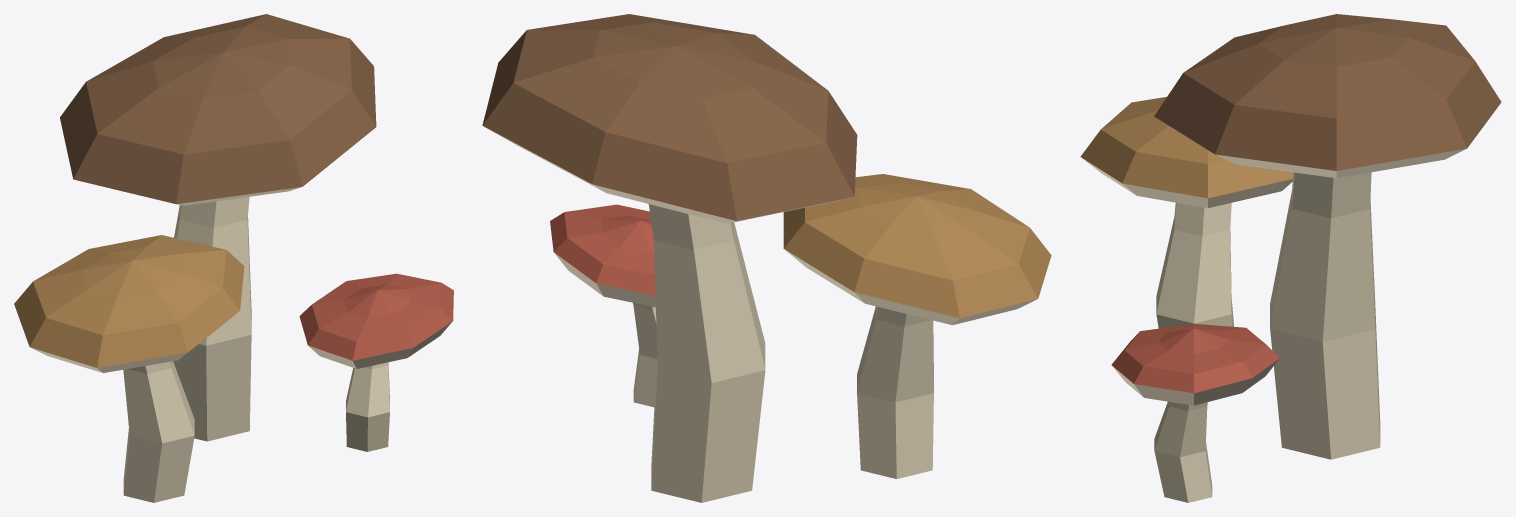
Rendered from magic_mushrooms.glb.
3 views of the same model, side by side, from view 1: azimuth 30°, elevation 25°; view 2: azimuth 150°, elevation 25°; view 3: azimuth 270°, elevation 25° (orthographic). The views are drawn at different scales.
Parts seen in each view (by area): view 1: SM_Magic_MushroomCluster; view 2: SM_Magic_MushroomCluster; view 3: SM_Magic_MushroomCluster.
Boxes of the visible parts, left/top/right/bottom form: SM_Magic_MushroomCluster: left=14, top=14, right=453, bottom=502; SM_Magic_MushroomCluster: left=482, top=14, right=1051, bottom=502; SM_Magic_MushroomCluster: left=1080, top=14, right=1501, bottom=502.
Size of the model in its own units: 0.1995 by 0.165 by 0.1505.
Materials: 1 (1 with a texture image).
